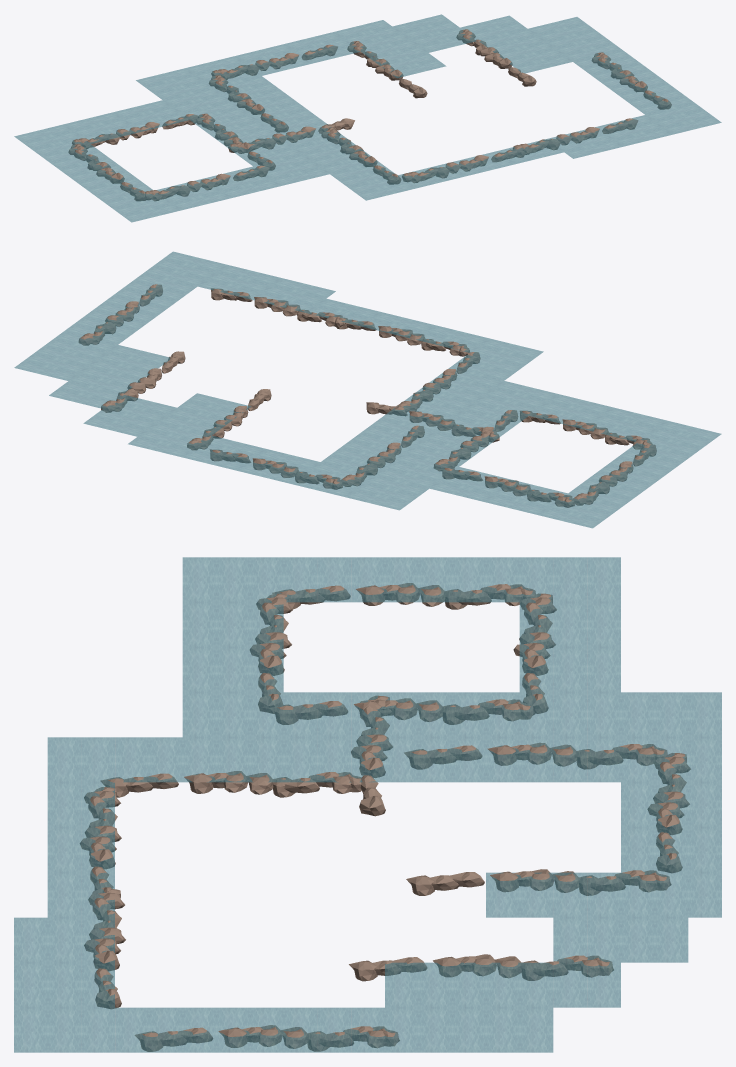
File: hengbing_shui.fbx
The picture shows the model from 3 angles, top to bottom: view 1: azimuth 30°, elevation 25°; view 2: azimuth 150°, elevation 25°; view 3: azimuth 270°, elevation 25°; orthographic projection. The views are drawn at different scales.
Parts seen in each view (by area): view 1: hengbing_1.001, hengbing_1.013, hengbing_1.010, hengbing_1.015, hengbing_1.012, hengbing_1.003, hengbing_1.004, hengbing_1.006, hengbing_1.007, hengbing_1.005, hengbing_1.008, hengbing_1.014 (+2 smaller); view 2: hengbing_1.001, hengbing_1.003, hengbing_1.010, hengbing_1.013, hengbing_1.012, hengbing_1.015, hengbing_1.004, hengbing_1.006, hengbing_1.007, hengbing_1.005, hengbing_1.009, hengbing_1.008 (+2 smaller); view 3: hengbing_1.001, hengbing_1.006, hengbing_1.007, hengbing_1.005, hengbing_1.014, hengbing_1.008, hengbing_1.009, hengbing_1.011, hengbing_1.003, hengbing_1.012, hengbing_1.013, hengbing_1.010 (+2 smaller).
Boxes of the visible parts, x1=… form: hengbing_1.001: x1=14, y1=14, x2=721, y2=222; hengbing_1.013: x1=144, y1=165, x2=269, y2=200; hengbing_1.010: x1=72, y1=114, x2=198, y2=148; hengbing_1.015: x1=402, y1=146, x2=524, y2=182; hengbing_1.012: x1=211, y1=44, x2=337, y2=79; hengbing_1.003: x1=513, y1=118, x2=637, y2=154; hengbing_1.004: x1=228, y1=118, x2=354, y2=153; hengbing_1.006: x1=456, y1=29, x2=536, y2=86; hengbing_1.007: x1=347, y1=41, x2=427, y2=98; hengbing_1.005: x1=592, y1=52, x2=671, y2=109; hengbing_1.008: x1=209, y1=75, x2=288, y2=132; hengbing_1.014: x1=321, y1=127, x2=400, y2=184; hengbing_1.001: x1=14, y1=251, x2=721, y2=528; hengbing_1.003: x1=211, y1=288, x2=343, y2=327; hengbing_1.010: x1=442, y1=468, x2=574, y2=507; hengbing_1.013: x1=520, y1=411, x2=652, y2=449; hengbing_1.012: x1=210, y1=449, x2=342, y2=489; hengbing_1.015: x1=336, y1=318, x2=469, y2=356; hengbing_1.004: x1=366, y1=402, x2=499, y2=442; hengbing_1.006: x1=101, y1=351, x2=185, y2=412; hengbing_1.007: x1=187, y1=389, x2=271, y2=449; hengbing_1.005: x1=79, y1=284, x2=162, y2=345; hengbing_1.009: x1=573, y1=444, x2=656, y2=505; hengbing_1.008: x1=341, y1=425, x2=424, y2=486; hengbing_1.001: x1=14, y1=557, x2=721, y2=1052; hengbing_1.006: x1=349, y1=954, x2=613, y2=981; hengbing_1.007: x1=406, y1=869, x2=671, y2=895; hengbing_1.005: x1=135, y1=1025, x2=399, y2=1051; hengbing_1.014: x1=101, y1=771, x2=361, y2=797; hengbing_1.008: x1=404, y1=743, x2=667, y2=769; hengbing_1.009: x1=272, y1=583, x2=535, y2=609; hengbing_1.011: x1=270, y1=698, x2=534, y2=724; hengbing_1.003: x1=84, y1=889, x2=125, y2=1008; hengbing_1.012: x1=647, y1=753, x2=690, y2=872; hengbing_1.013: x1=250, y1=593, x2=292, y2=713; hengbing_1.010: x1=513, y1=593, x2=556, y2=713.
Bounding box in the file's own units: 34773 × 659 × 21000.
